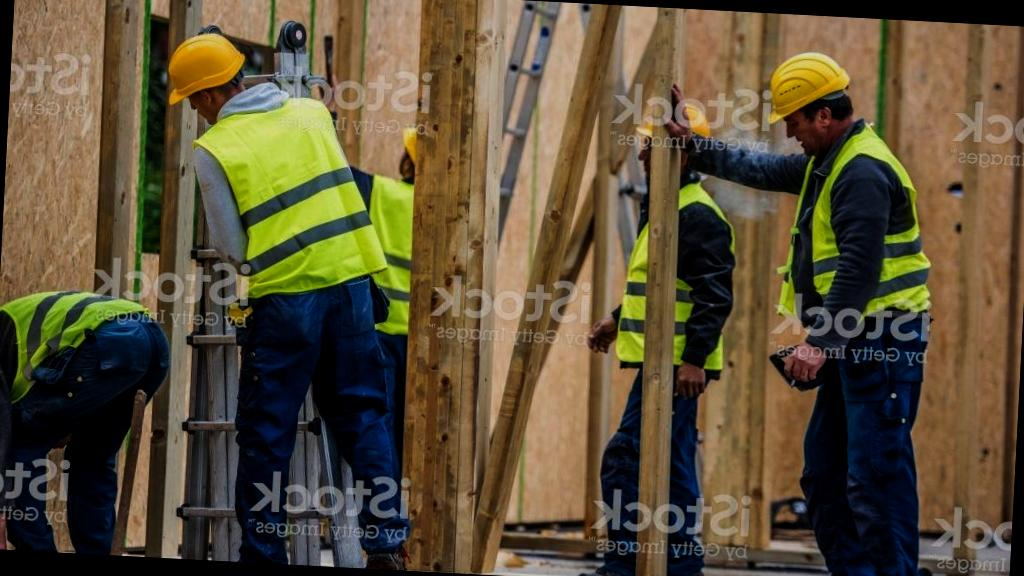helmet: (761, 47, 848, 130), (168, 31, 250, 102)
person: (150, 29, 424, 570), (743, 52, 954, 576)
